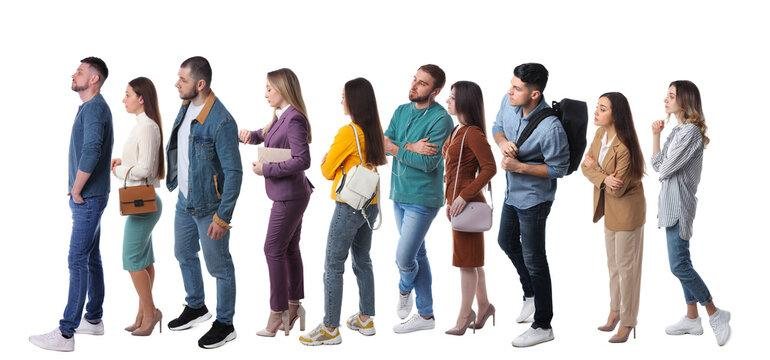dress: (441, 122, 498, 269)
jacket: (166, 92, 244, 227), (579, 125, 647, 231), (241, 105, 316, 201)
long sleeve shirt: (492, 88, 571, 211), (381, 100, 455, 208), (651, 114, 708, 240), (321, 119, 382, 206)
short sleeve shirt: (176, 103, 206, 198)
skirt: (121, 192, 163, 272)
sweater: (66, 93, 113, 198), (113, 111, 163, 190)
trousers: (172, 191, 236, 323), (497, 198, 556, 332), (58, 192, 110, 338), (322, 201, 380, 325), (392, 200, 442, 317), (263, 192, 310, 316), (603, 222, 645, 326), (667, 219, 712, 306)
